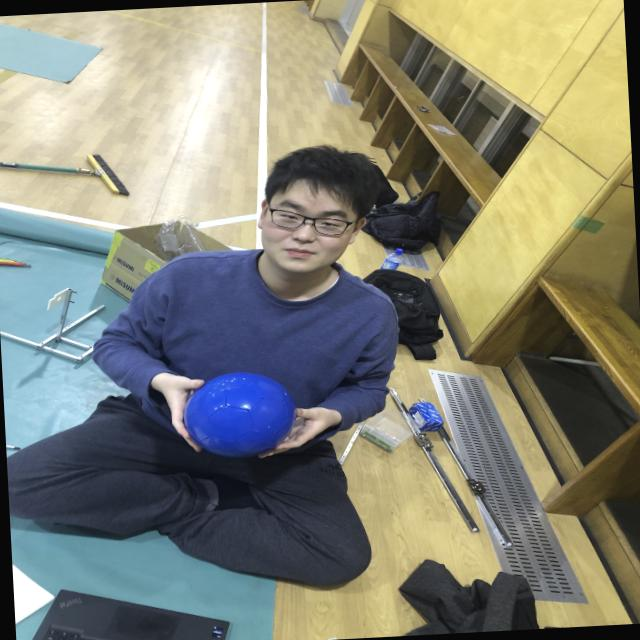blue_ball: (179, 370, 303, 465)
